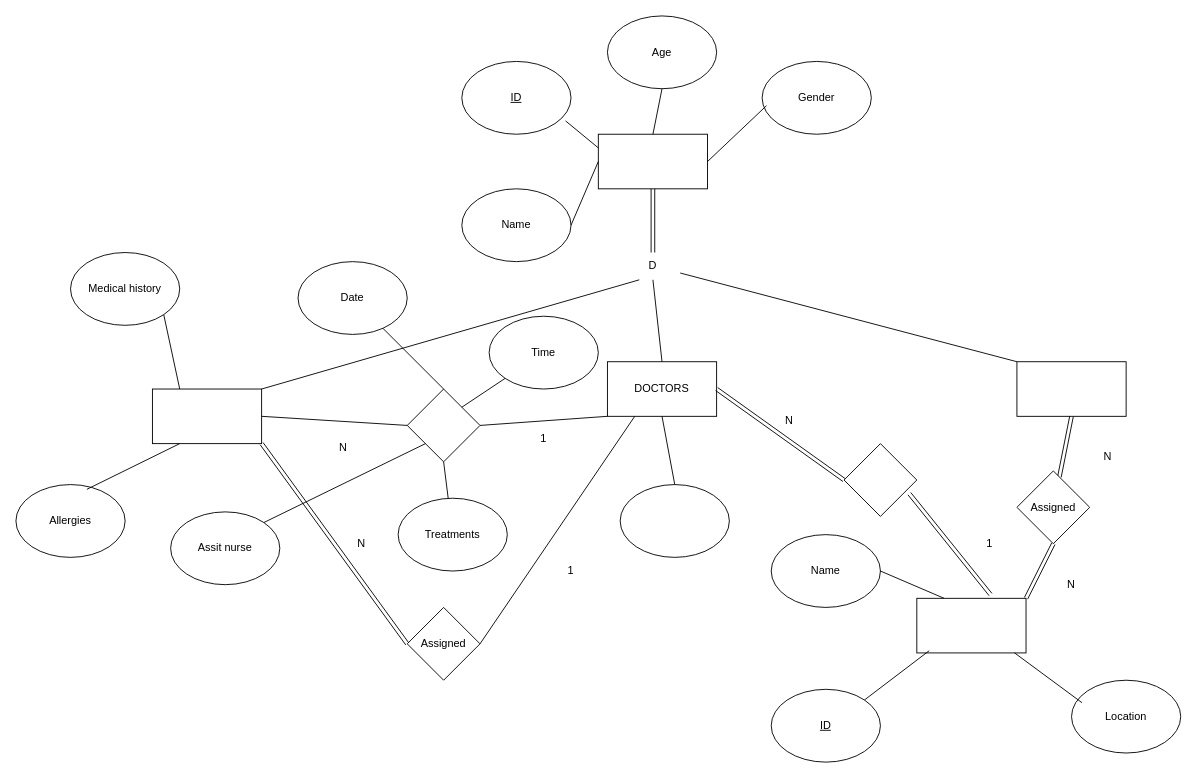
The diagram is 1197 pixels wide and 778 high, and some of its shapes have lost their labels. The shapes that lost their labels are listed below. From the top down, each one's centre as x and y in pixels, then its label:
At [652,161]: "INDIVIDUALS".
At [1071,388]: "Nurses".
At [207,416]: "PATIENTS".
At [443,425]: "Apointments".
At [880,479]: "Works".
At [674,520]: "Fields".
At [971,625]: "Departments".
